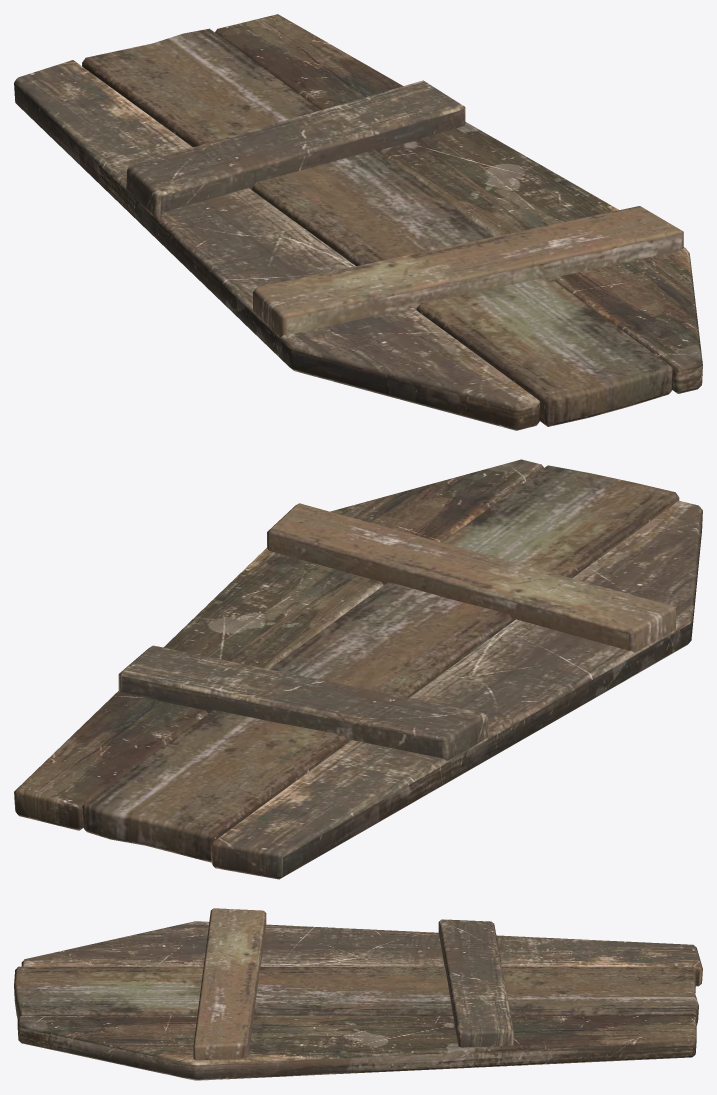
3 renders of one model, top to bottom at view 1: azimuth 30°, elevation 25°; view 2: azimuth 150°, elevation 25°; view 3: azimuth 270°, elevation 25°, orthographic. The views are drawn at different scales.
Visible parts, largest first — view 1: SM_Coffin_Wooden_Lid_LOD0; view 2: SM_Coffin_Wooden_Lid_LOD0; view 3: SM_Coffin_Wooden_Lid_LOD0.
Boxes of the visible parts, x1,y1,x2,y2 form: SM_Coffin_Wooden_Lid_LOD0: (14,14,702,430); SM_Coffin_Wooden_Lid_LOD0: (14,459,702,879); SM_Coffin_Wooden_Lid_LOD0: (14,908,702,1080).
Bounding box in the file's own units: 1.17 × 0.1352 × 2.39.
Materials: 1 (1 with a texture image).
